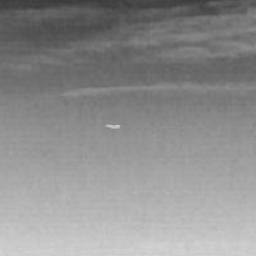Target: (104, 123, 122, 130)
